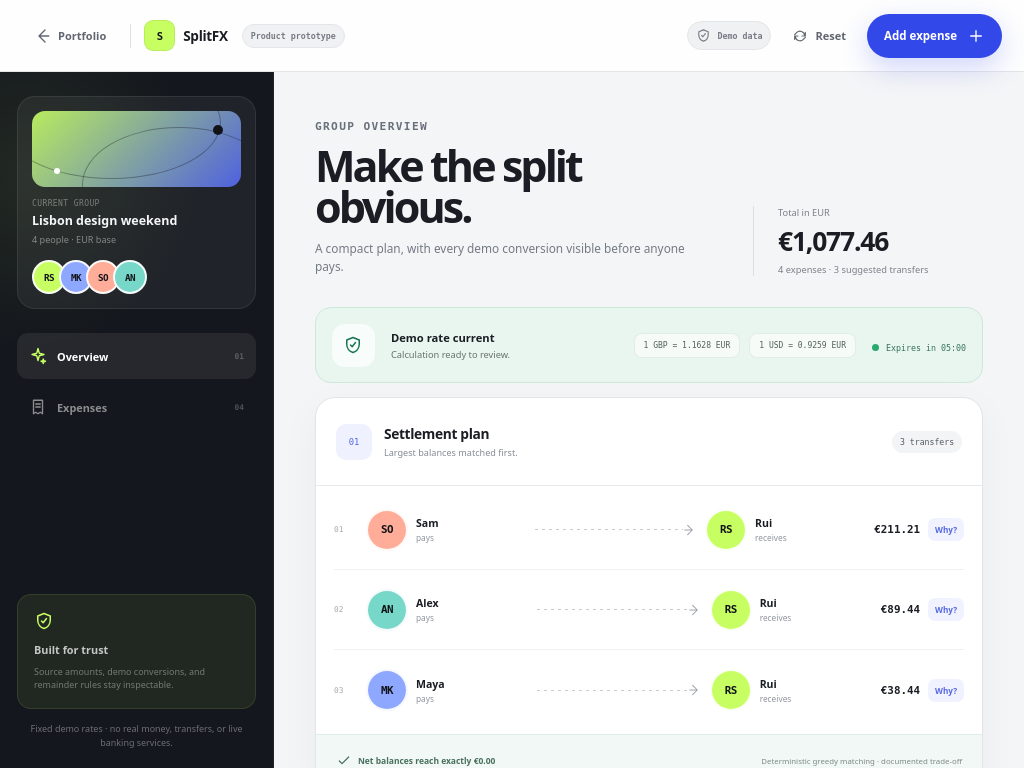
Test: portfolio application › loads a deep-linked product route and returns to the portfolio
The width and height of the screenshot is (1024, 768).
Click the button "Portfolio" at {"x": 70, "y": 36}, box [22,16,117,56]
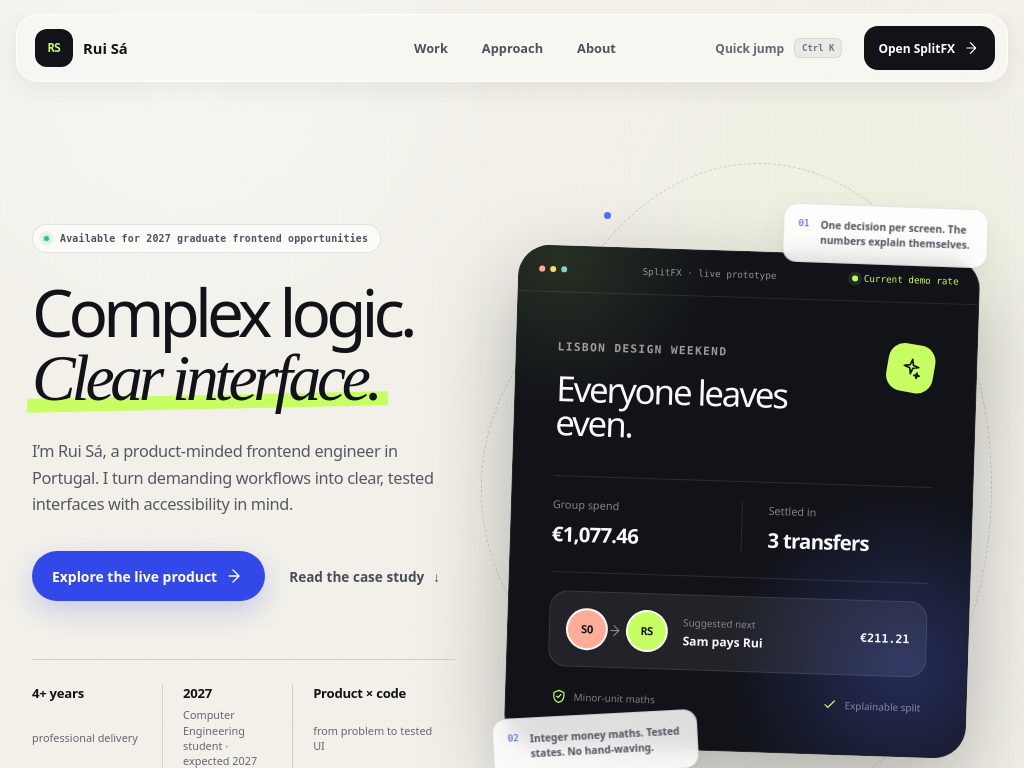
Now the heading "Complex logic. Clear interface." is shown, box [32,283,455,408]
